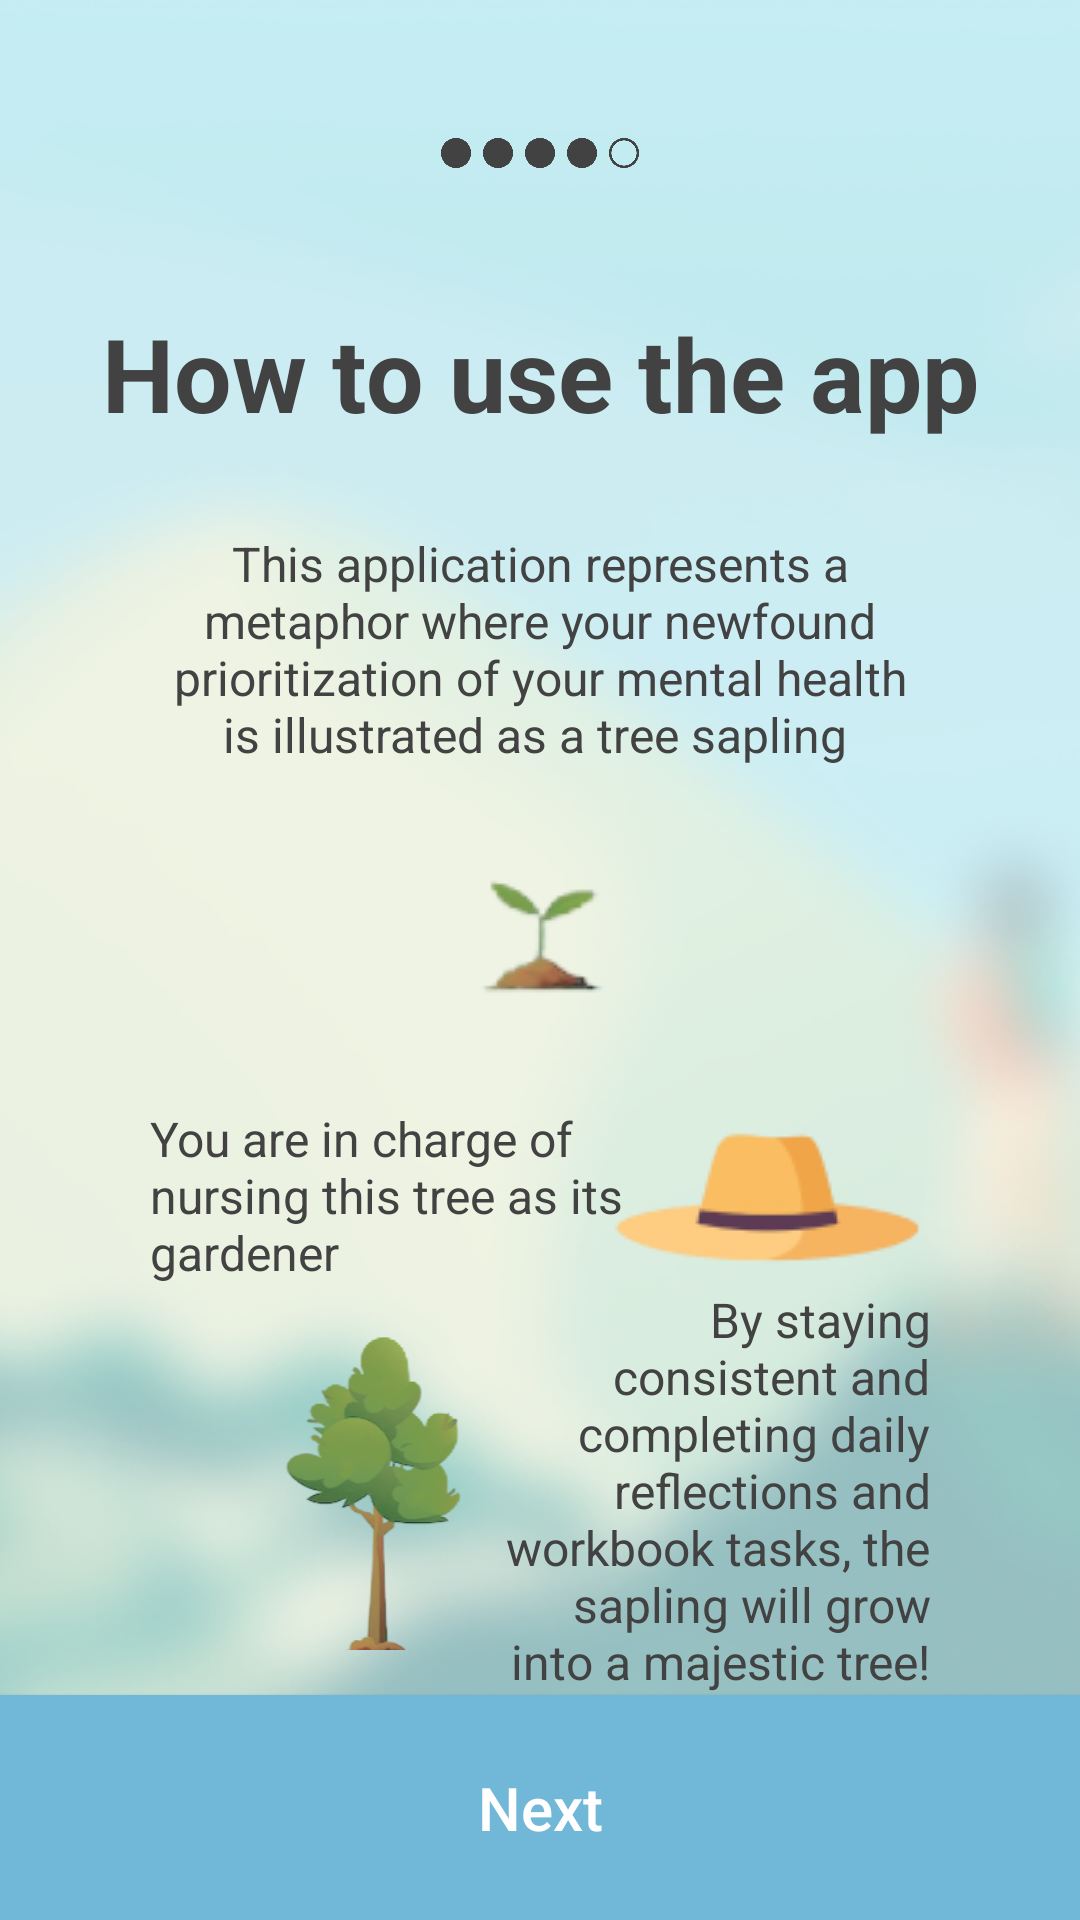

Named icons in this screenshot (1080px×1920px) and their centers, (x=x, y=y):
hat: (x=761, y=1197)
